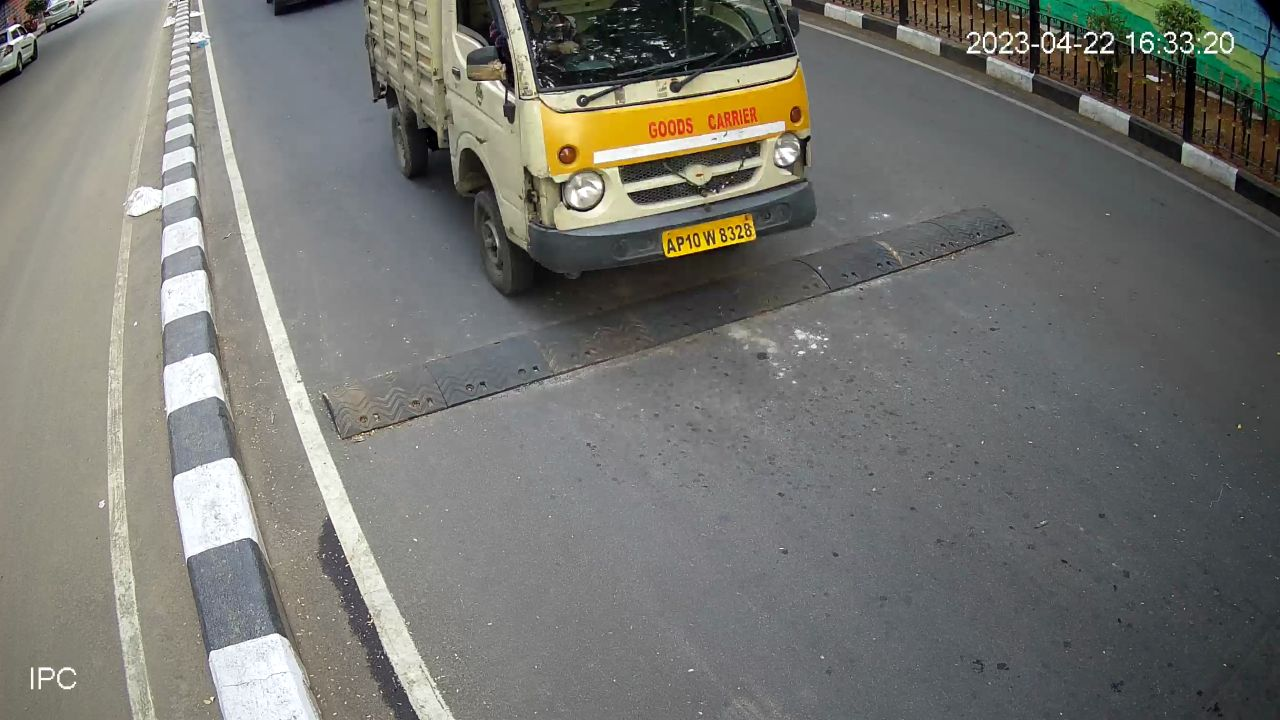license_plate: (659, 208, 762, 263)
